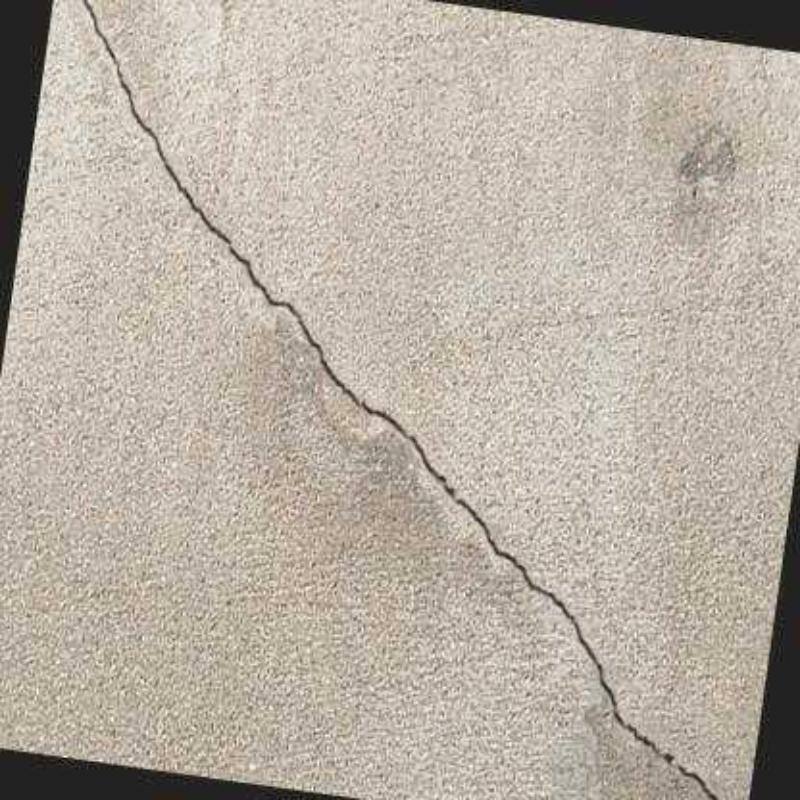pothole: (78, 0, 720, 800)
